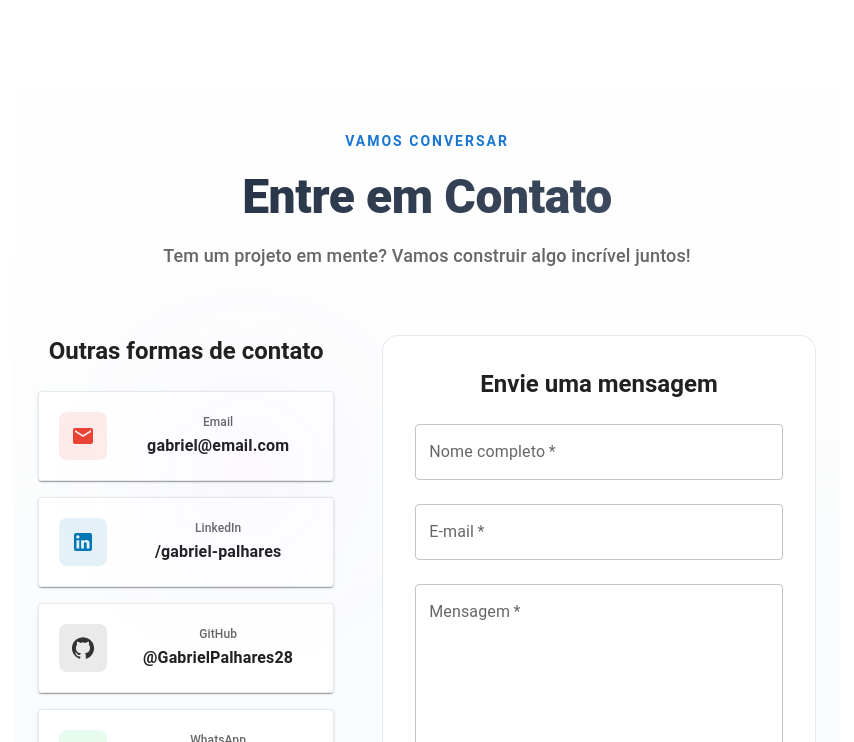
Test case: Contact › validates the minimum length of name and message and the email format
Type "Ga" into the field labelled "Nome completo *".
click(599, 452); type("Ga")  # box top-left (415, 424), bottom-right (783, 480)
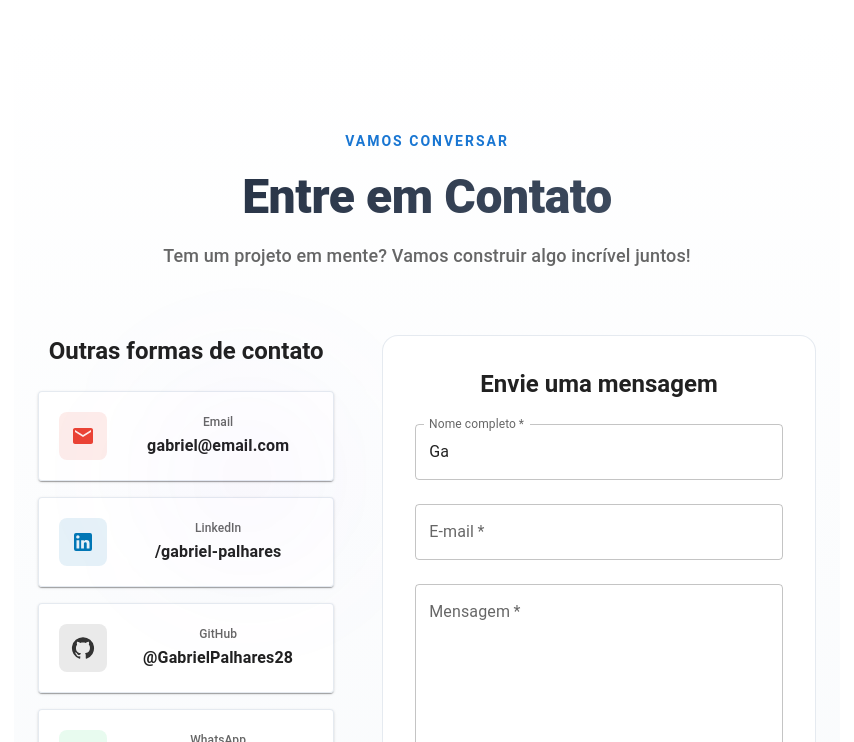
Type "invalido" into the field labelled "E-mail *".
click(599, 532); type("invalido")  # box top-left (415, 504), bottom-right (783, 560)
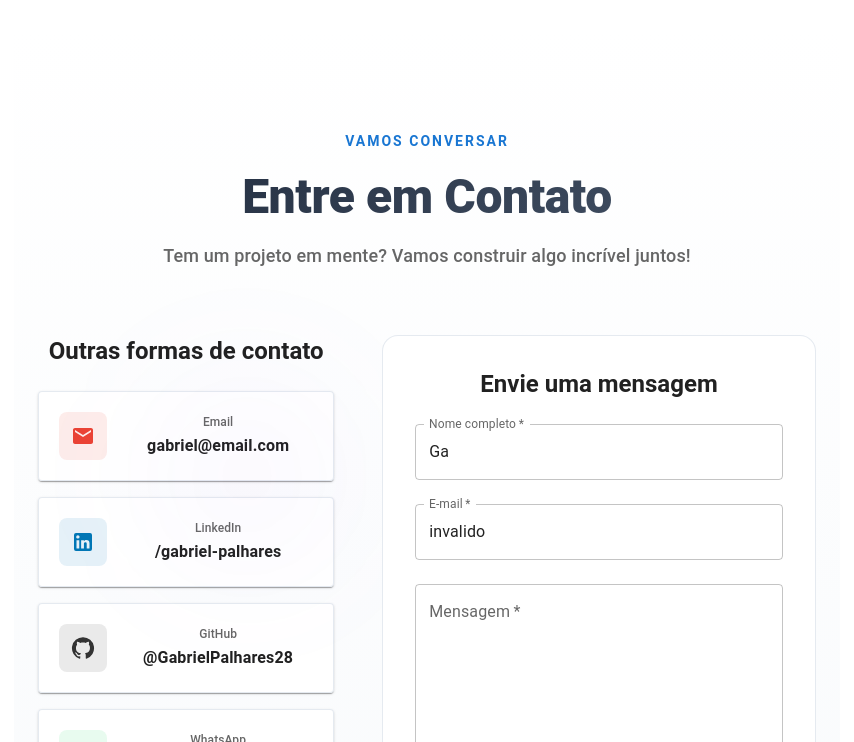
Type "curta" into the text box labelled "Mensagem *".
click(599, 669); type("curta")  # box top-left (429, 600), bottom-right (769, 738)
(page scrolled)
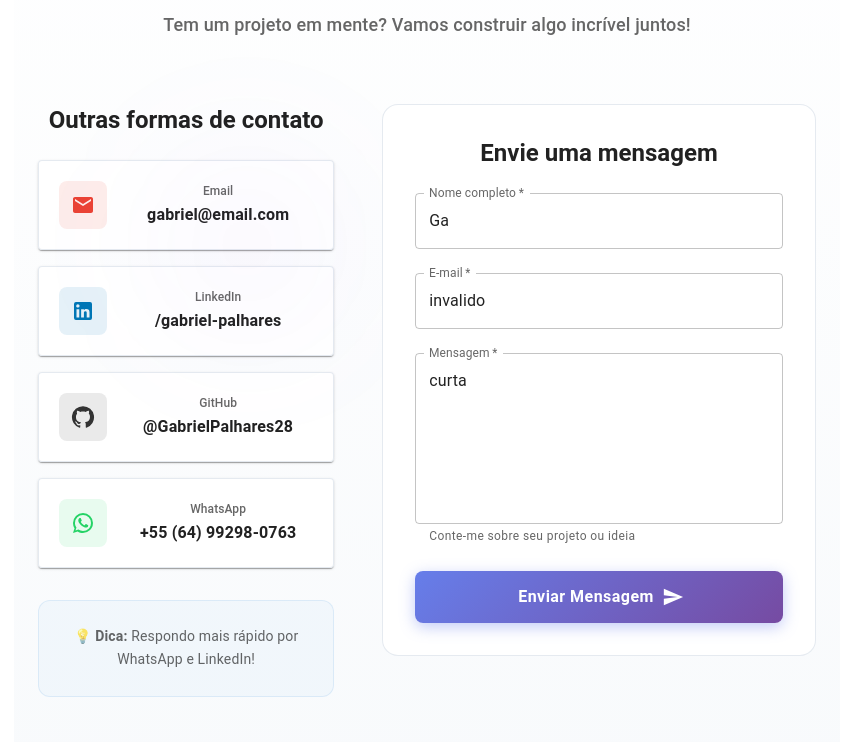
Submit the form, box top-left (382, 104), bottom-right (816, 656)
(page scrolled)
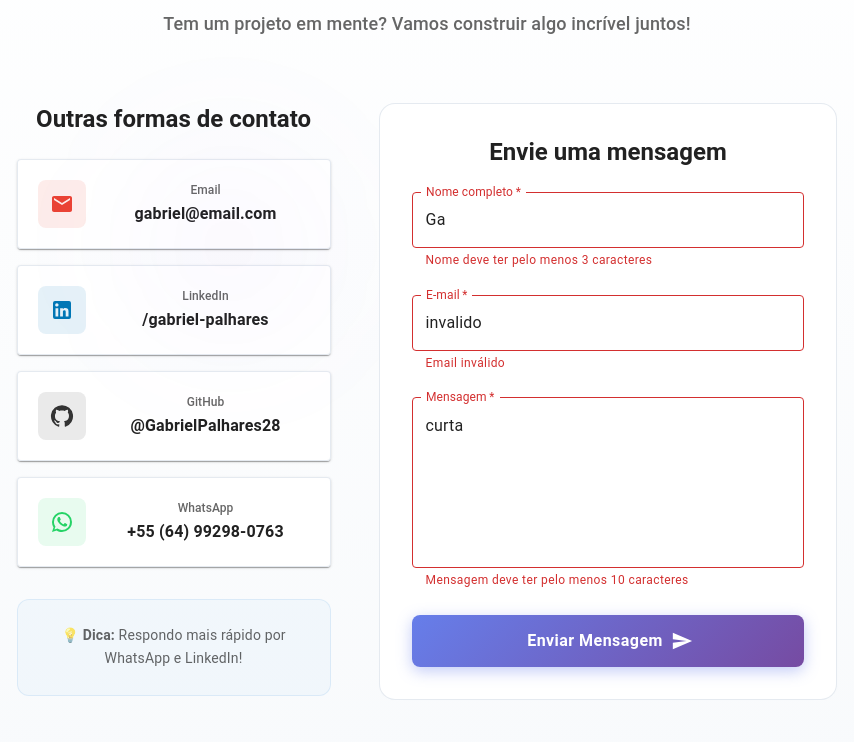
Now the text "Nome deve ter pelo menos 3 caracteres" is shown, box top-left (426, 253), bottom-right (652, 267)
Now the text "Email inválido" is shown, box top-left (426, 356), bottom-right (505, 370)
Now the text "Mensagem deve ter pelo menos 10 caracteres" is shown, box top-left (426, 574), bottom-right (689, 588)
